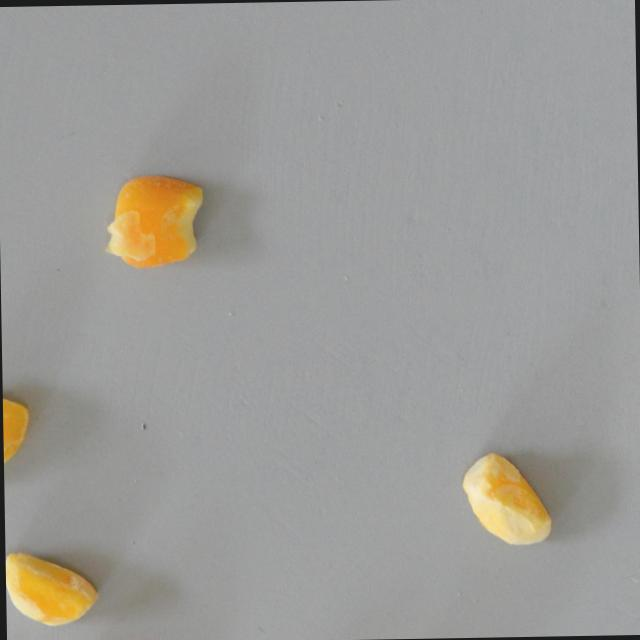pelicula: (103, 168, 208, 270), (457, 451, 552, 548), (4, 544, 101, 628), (1, 382, 28, 487)
